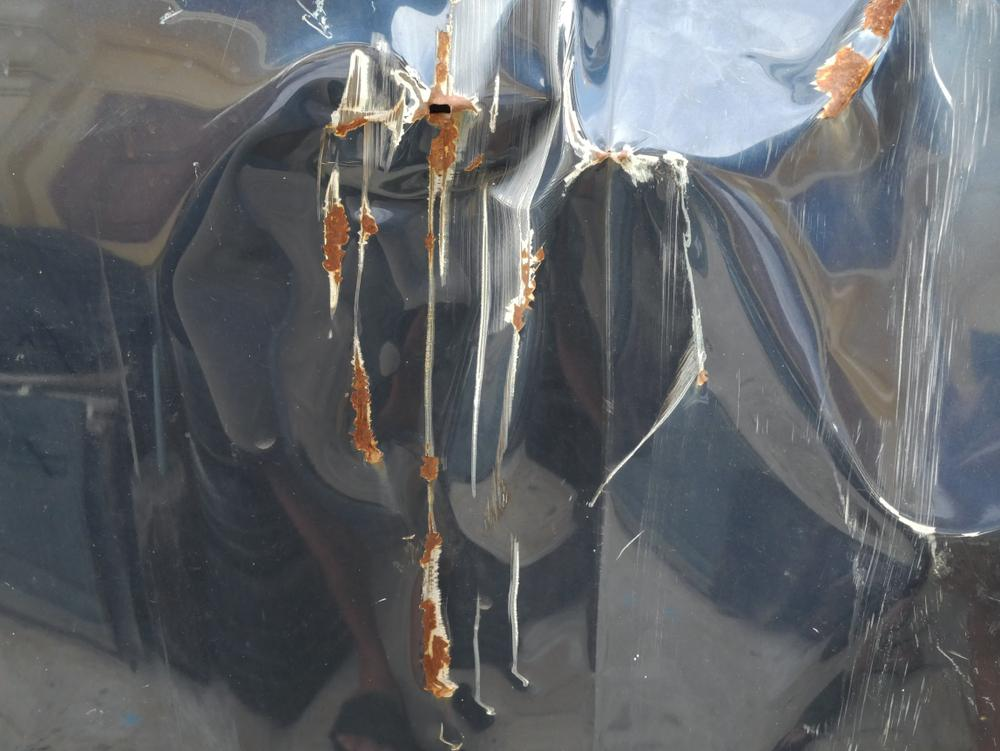dent: (142, 0, 1000, 720)
scratch: (815, 415, 1000, 751)
